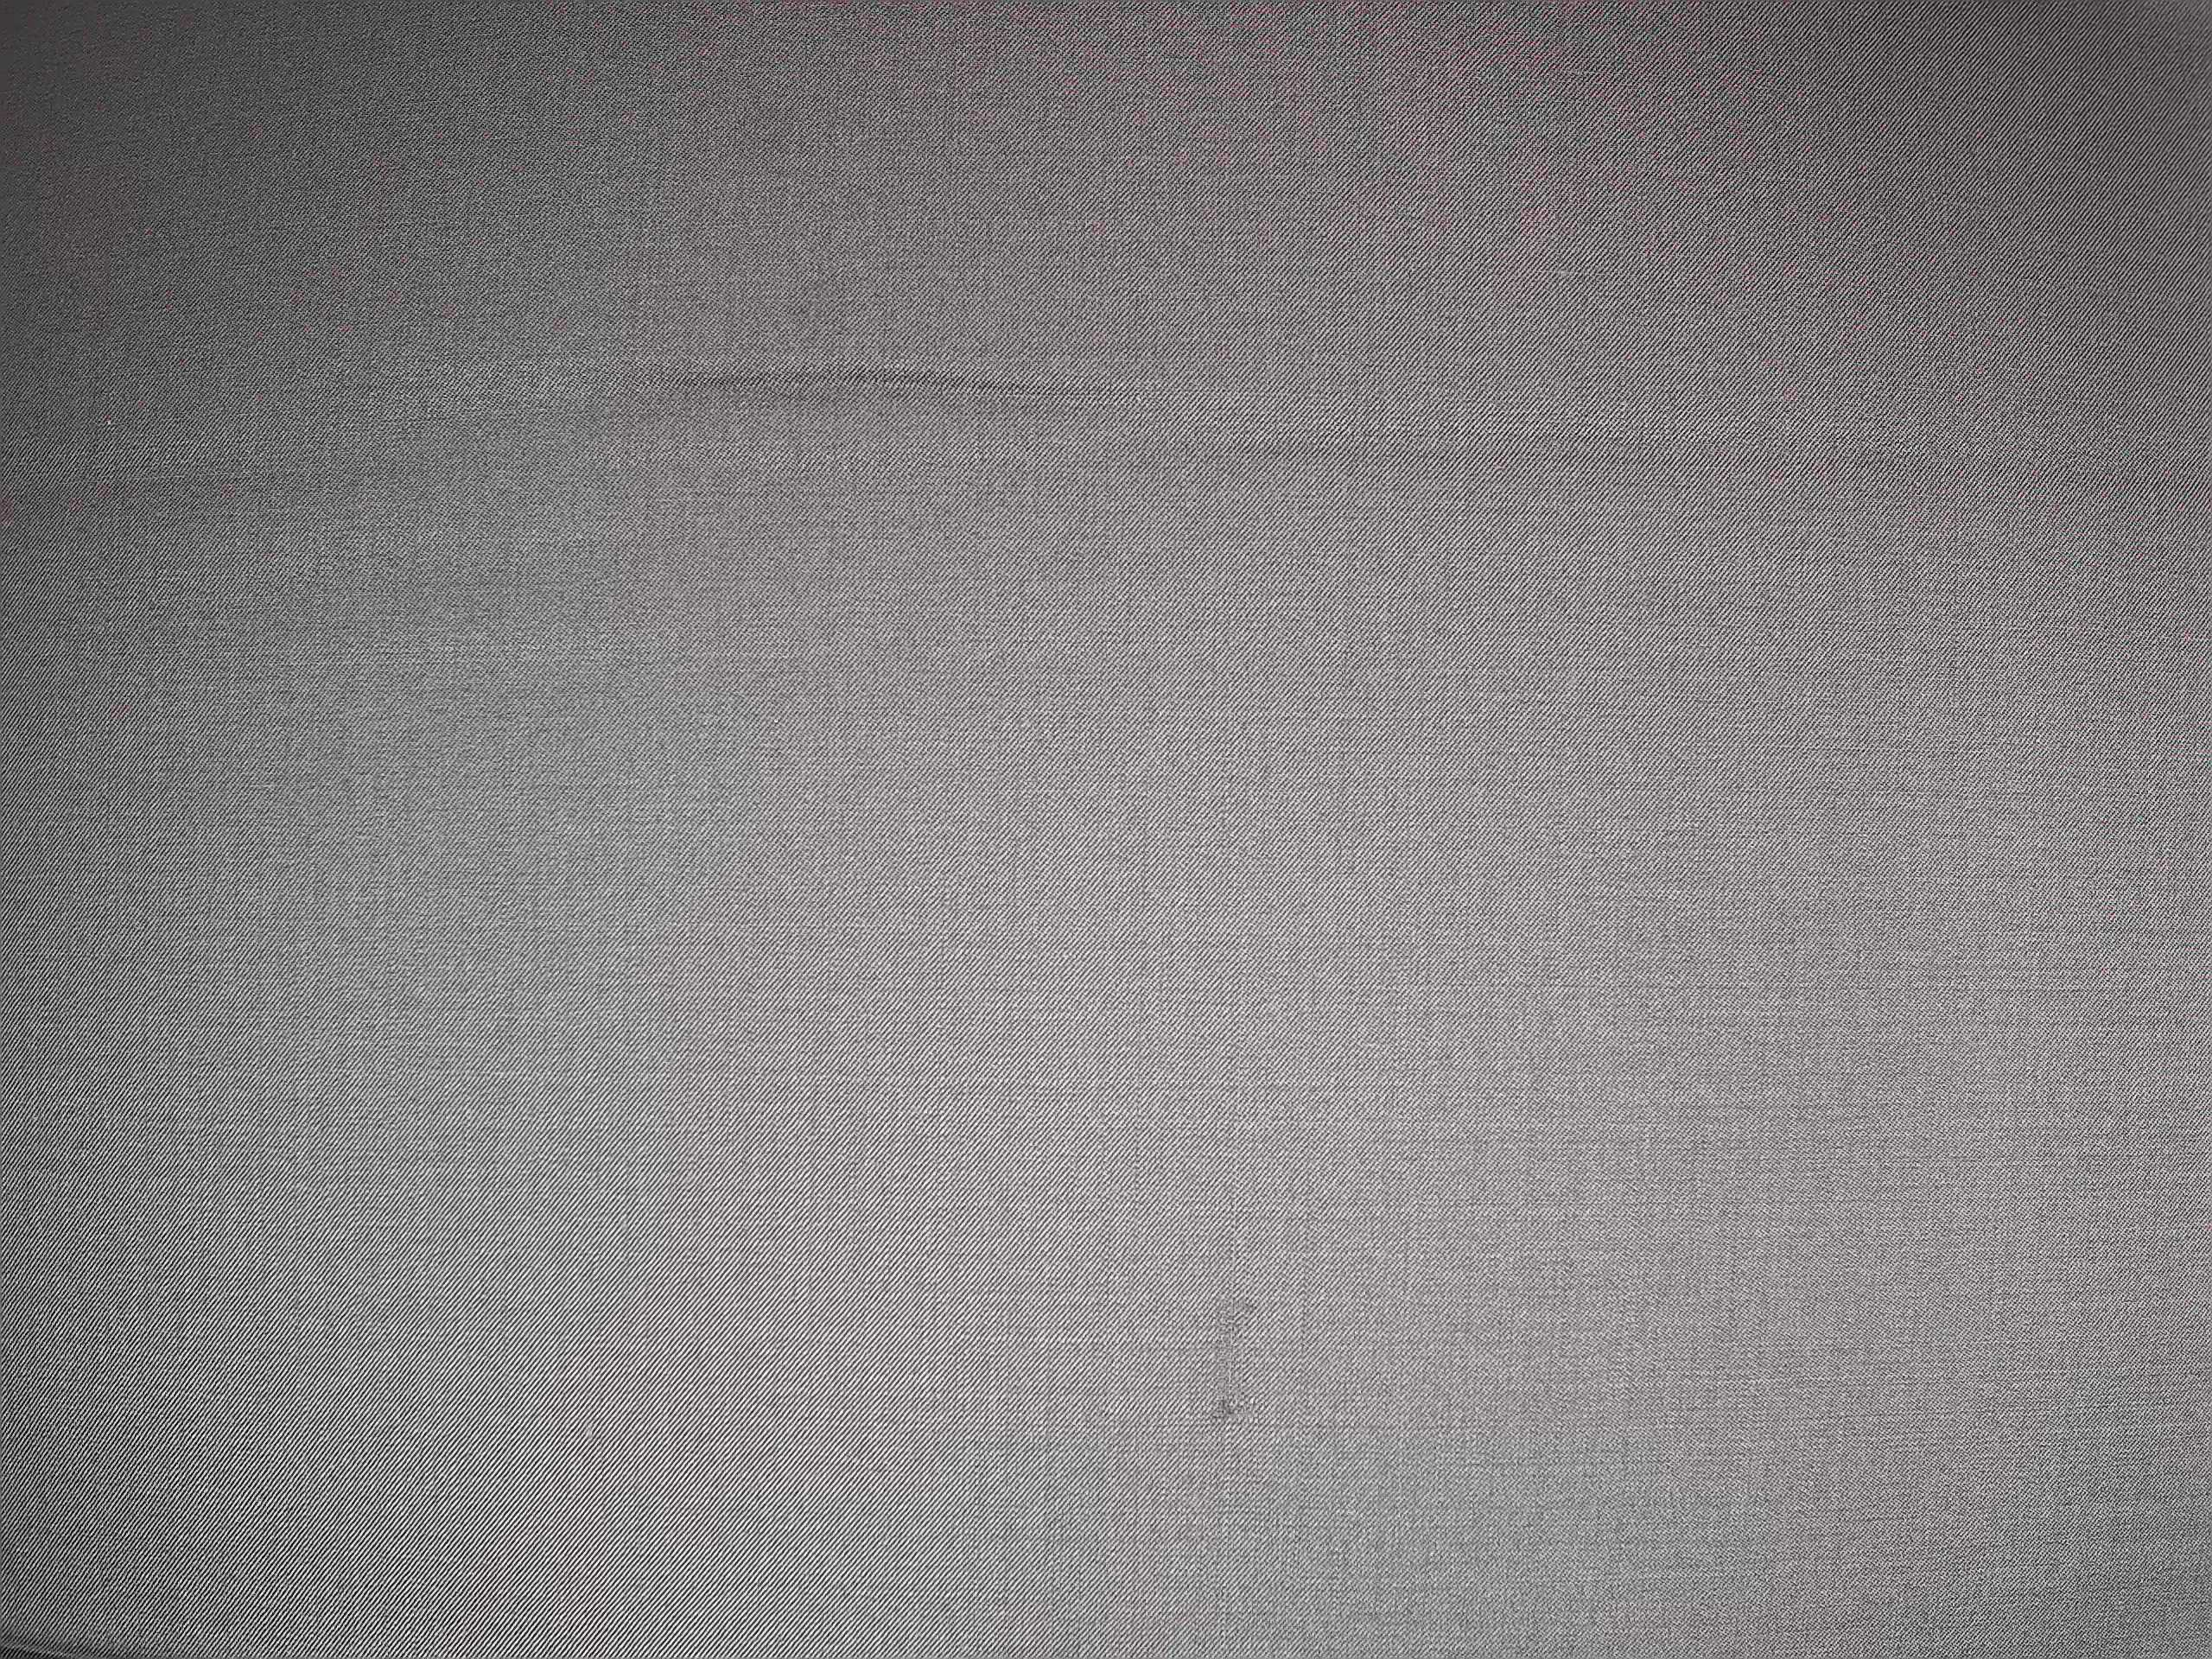hanging-warp: (1191, 1173, 1275, 1537)
